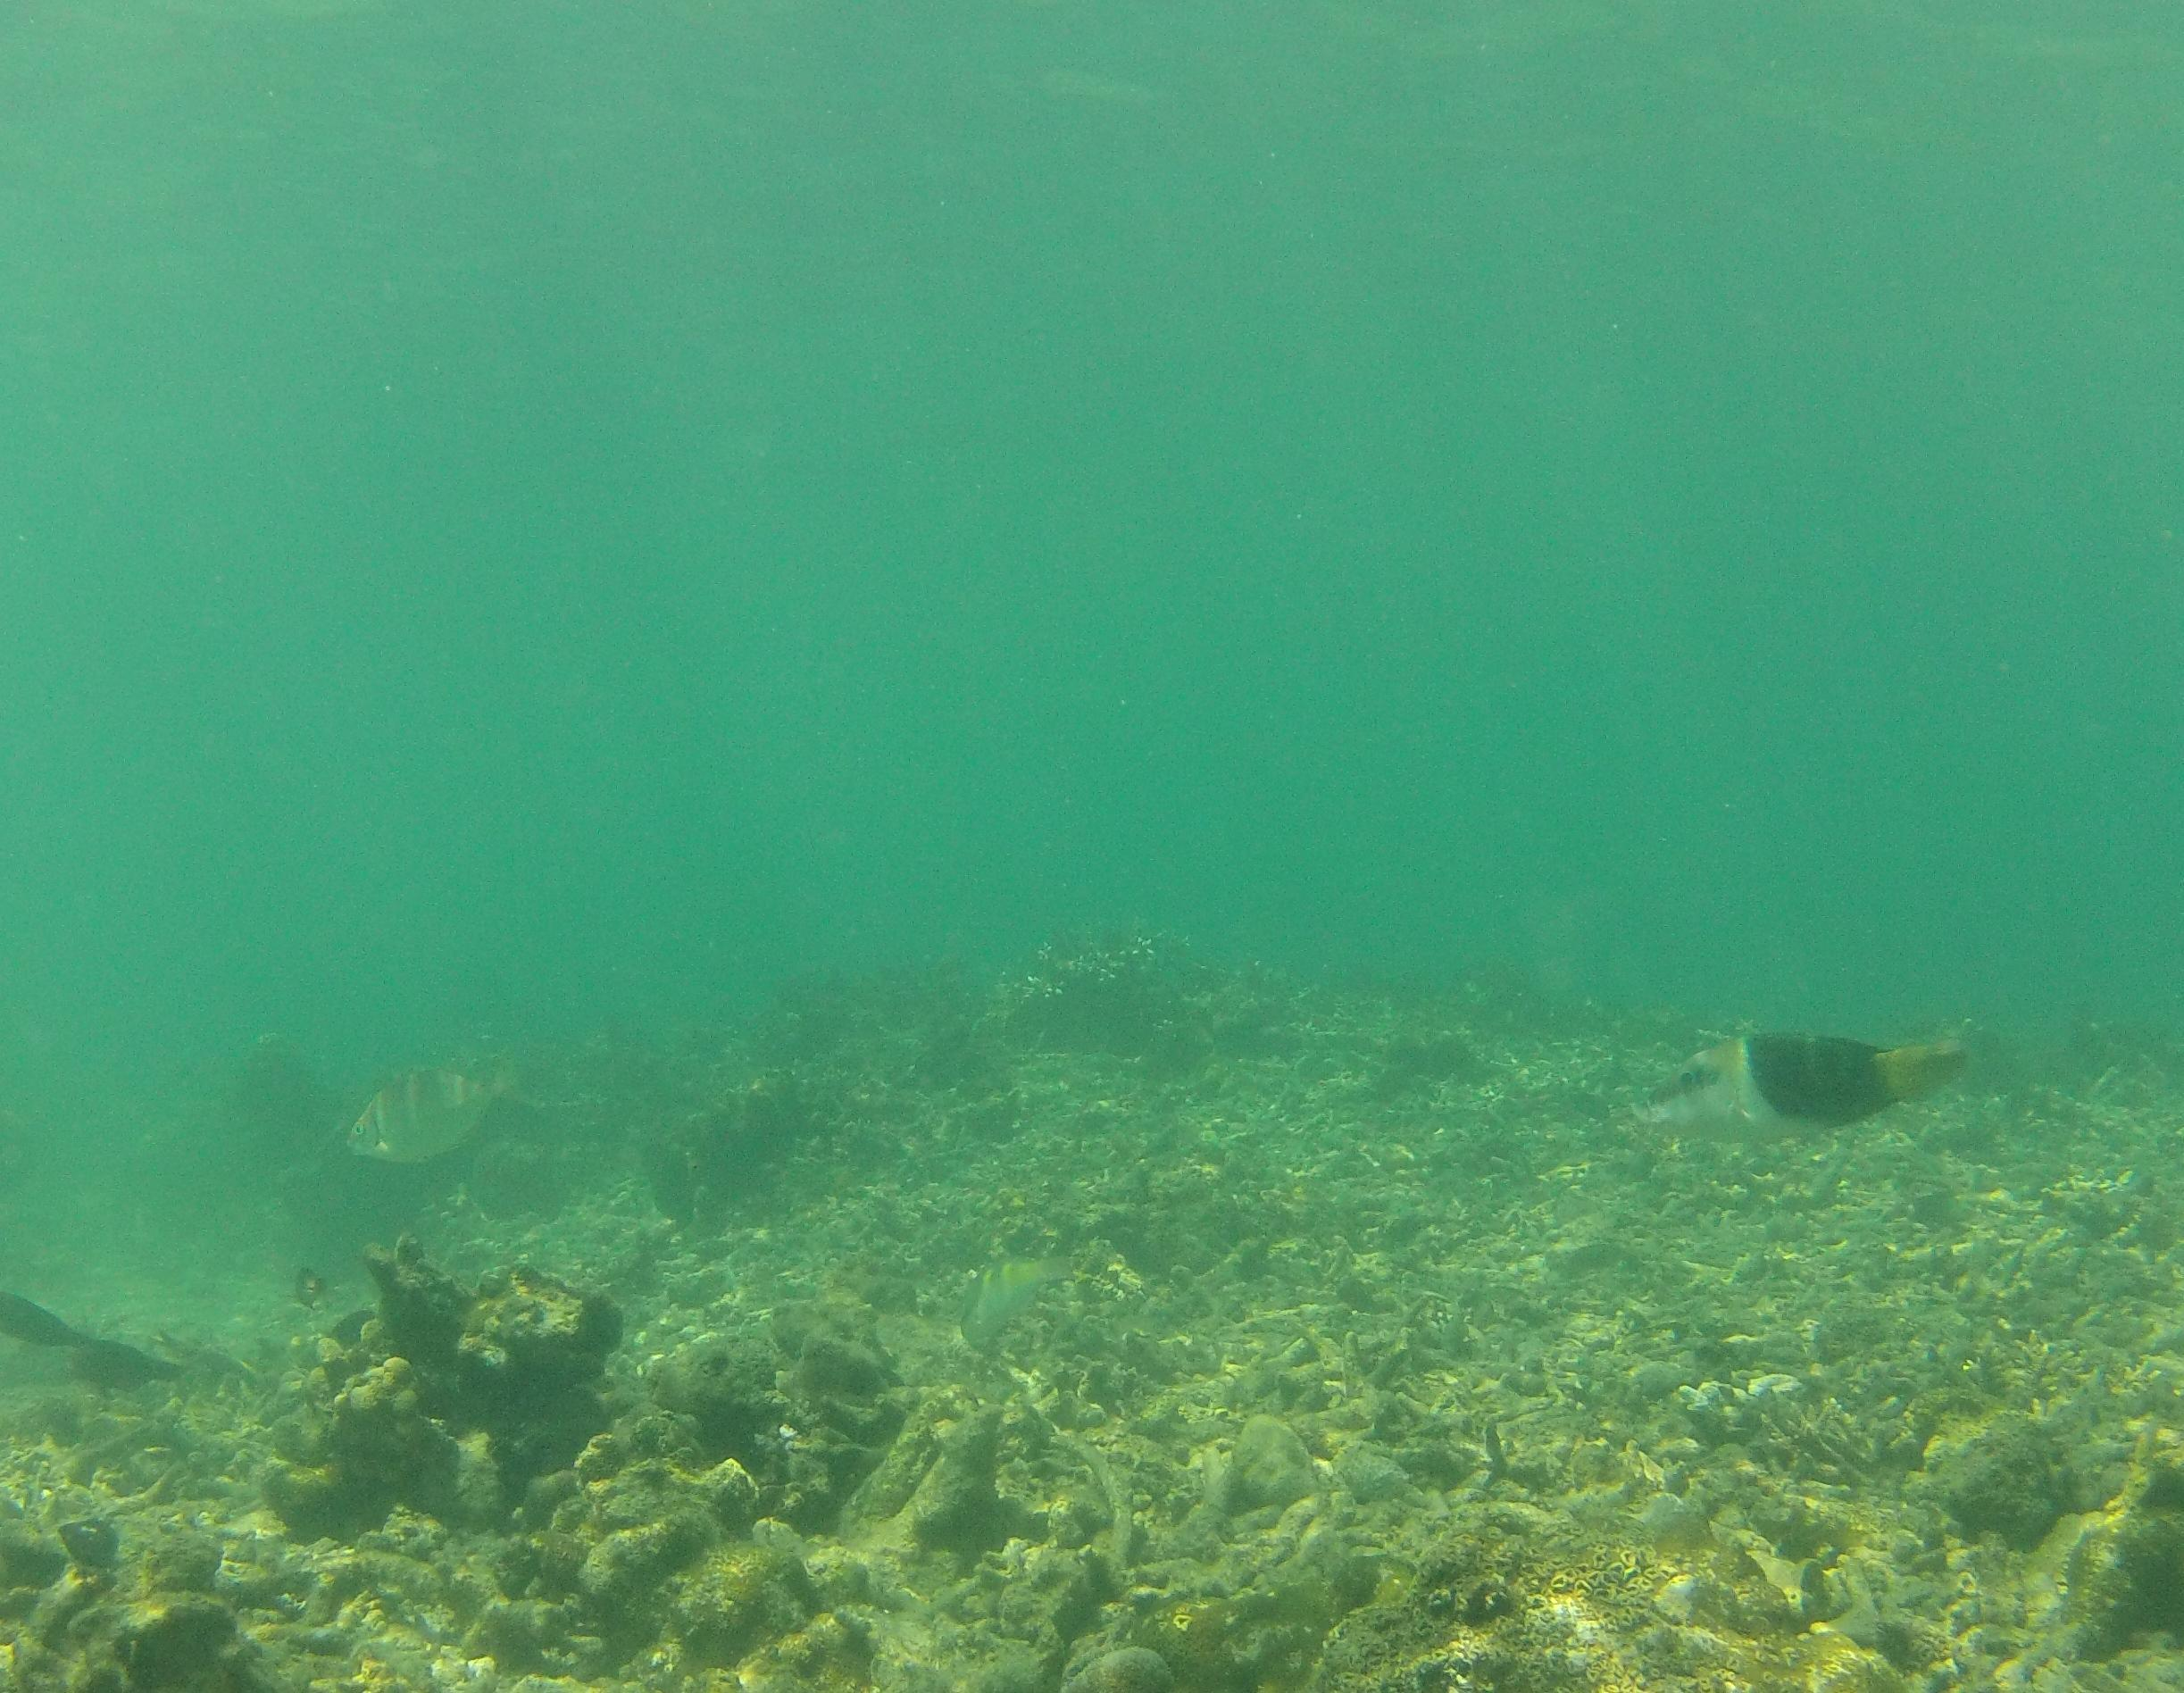Fish: (1587, 913, 2012, 1252)
